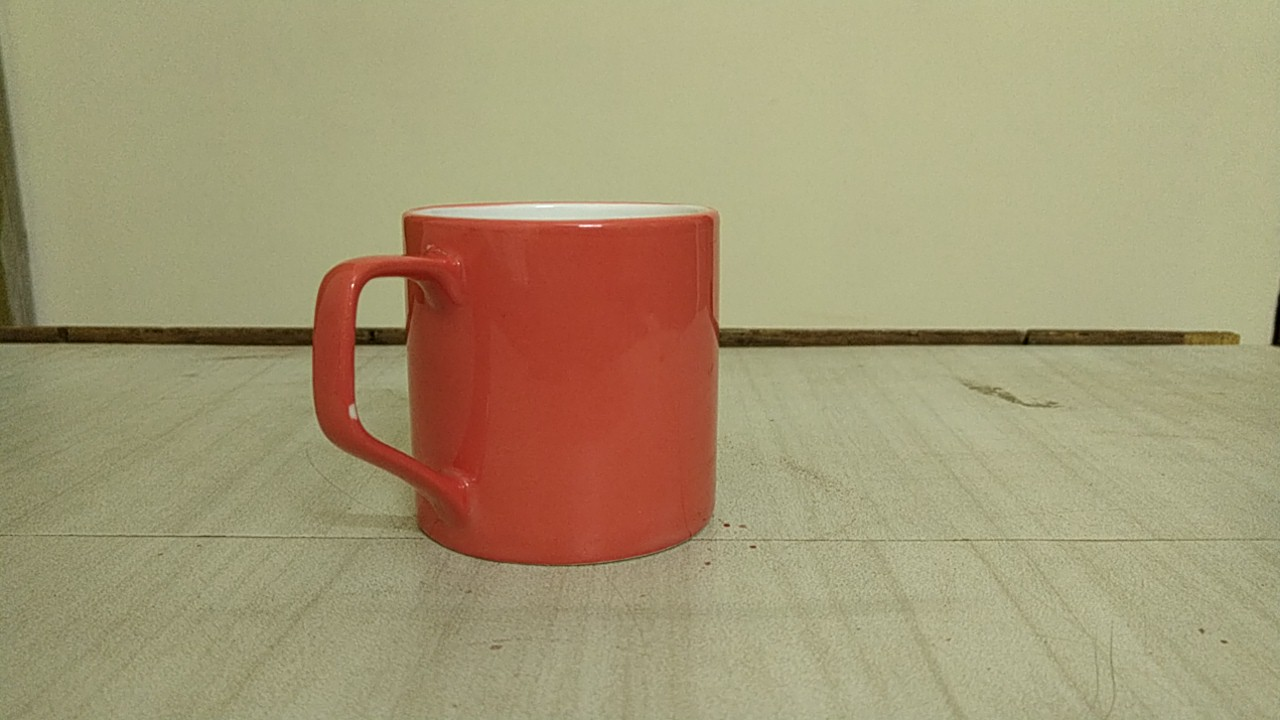cup: (300, 182, 744, 589)
